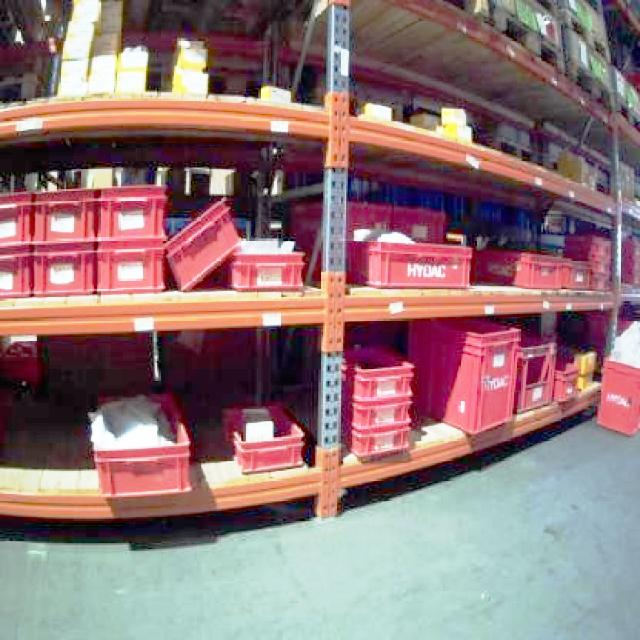ground: (0, 394, 638, 638)
pallet: (0, 182, 305, 300)
